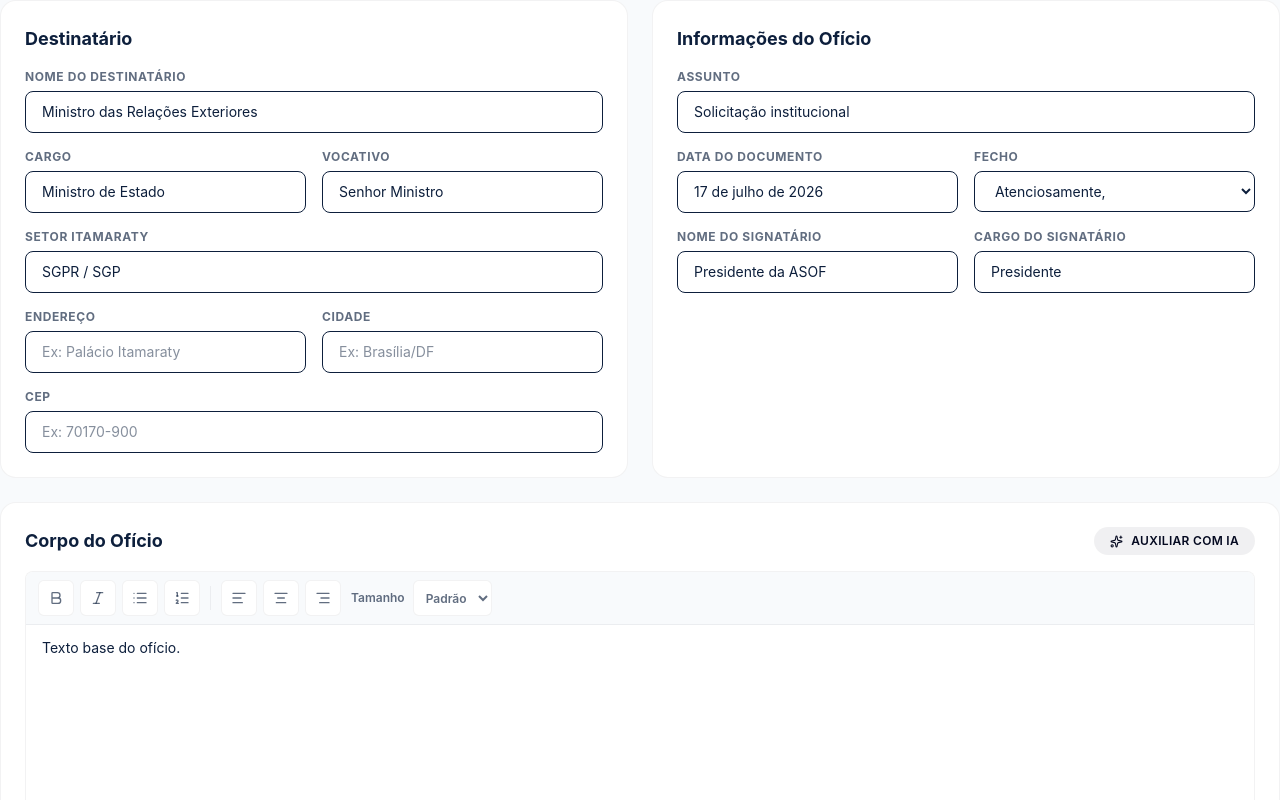
Test: OficioForm — auxiliar com IA › mantém o conteúdo original e apresenta o erro retornado pela action
Click the button "Auxiliar com IA".
click(1175, 541)  # box [1094,527,1255,555]
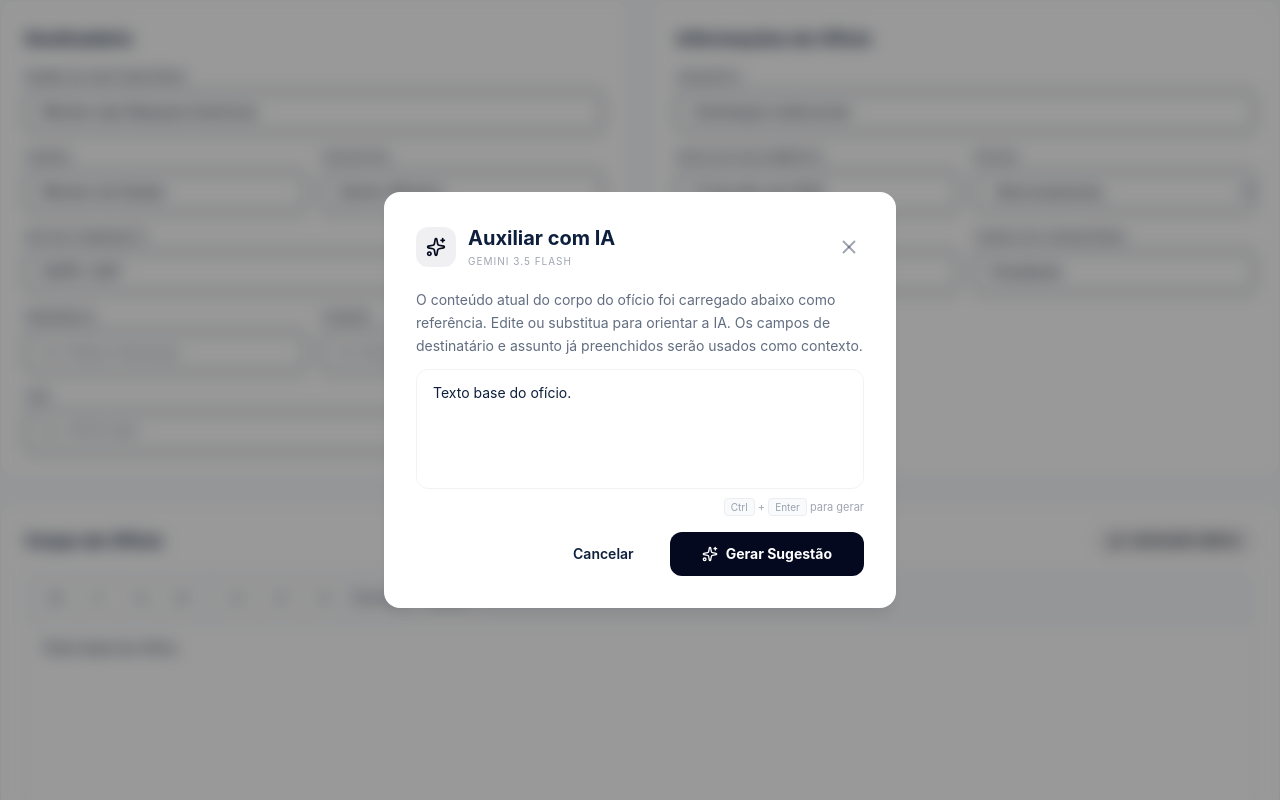
Click the button "Gerar Sugestão".
click(767, 554)  # box [670,532,864,576]
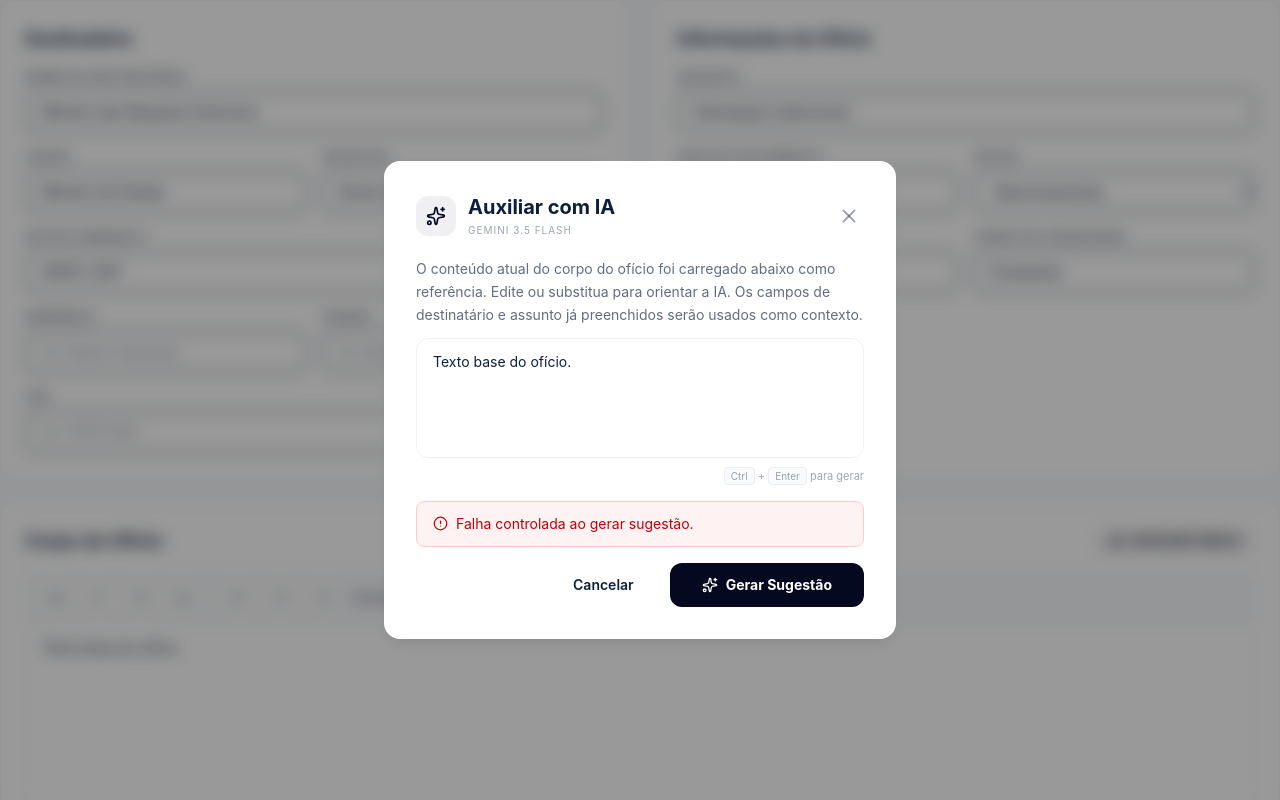
expect the dialog "Auxiliar com IA" is shown: met, box [384,161,896,639]
expect the message reads "Falha controlada ao gerar sugestão.": met, box [456,515,694,532]
